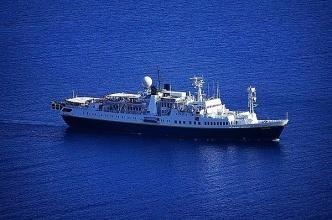warship: (55, 73, 289, 140)
